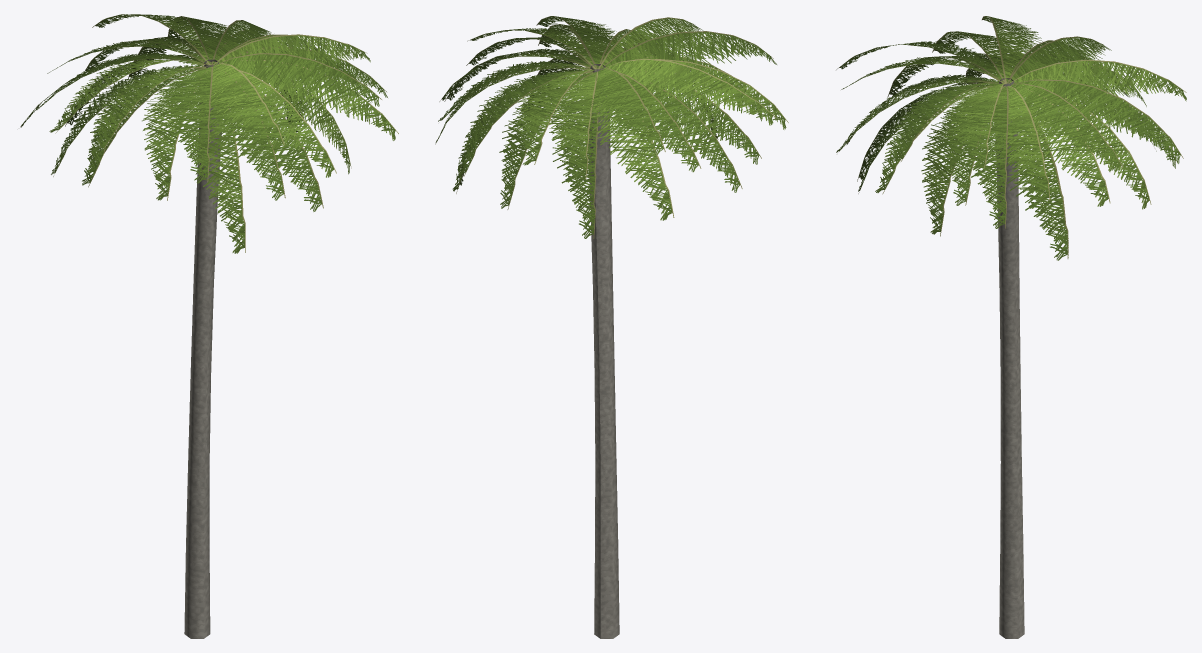
Rendered from tree_palm_queen.glb.
The picture shows the model from 3 angles, left to right: view 1: azimuth 30°, elevation 25°; view 2: azimuth 150°, elevation 25°; view 3: azimuth 270°, elevation 25°; orthographic projection. The views are drawn at different scales.
Visible parts, largest first — view 1: tree_palm_queen; view 2: tree_palm_queen; view 3: tree_palm_queen.
Boxes of the visible parts, x1,y1,x2,y2 form: tree_palm_queen: (20, 14, 398, 638); tree_palm_queen: (435, 16, 788, 638); tree_palm_queen: (836, 16, 1186, 638).
Size of the model in its own units: 7.02 by 12.08 by 6.98.
Materials: 1 (1 with a texture image).
